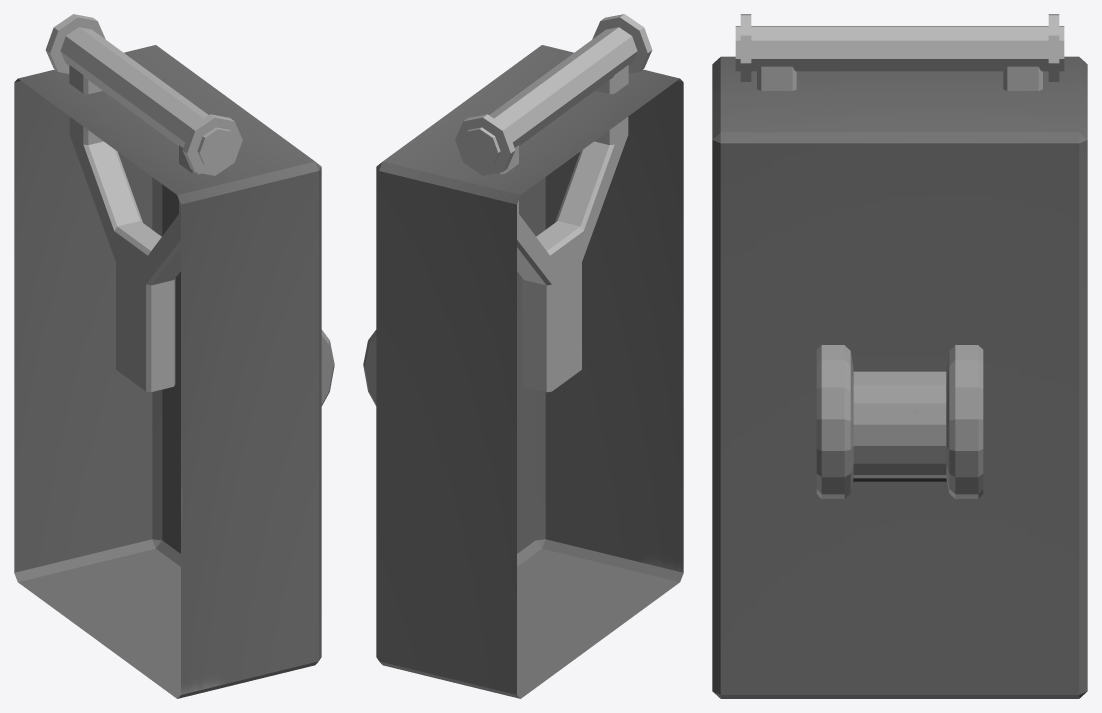
The model's file is Lever.fbx.
3 views of the same model, side by side, from view 1: azimuth 30°, elevation 25°; view 2: azimuth 150°, elevation 25°; view 3: azimuth 270°, elevation 25° (orthographic). The views are drawn at different scales.
Parts seen in each view (by area): view 1: Cube, Cube.001; view 2: Cube, Cube.001; view 3: Cube, Cube.001.
Part boxes in pixels (box(x1,y1,x2,y2)): Cube: box(14, 45, 334, 698); Cube.001: box(45, 14, 242, 392); Cube: box(363, 45, 683, 698); Cube.001: box(455, 14, 652, 392); Cube: box(712, 56, 1087, 698); Cube.001: box(735, 14, 1064, 90).
Size of the model in its own units: 21.03 by 55.92 by 30.
